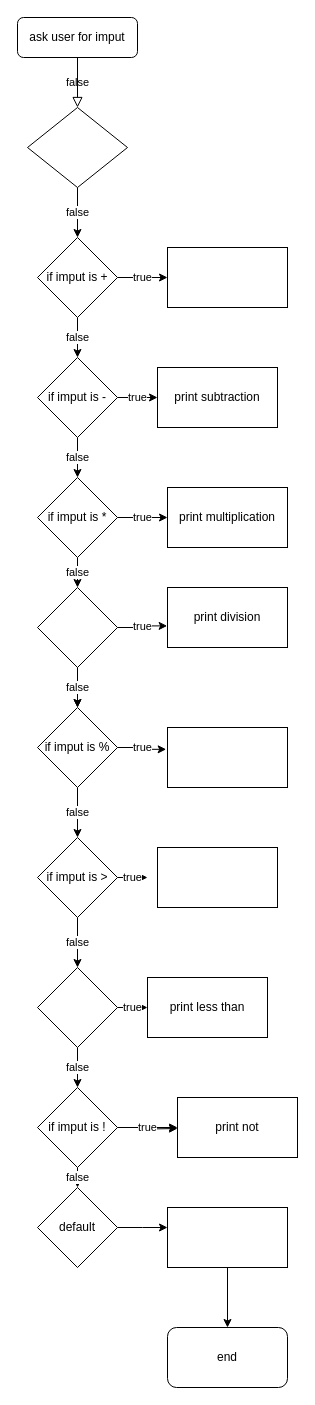
Image size: 315x1405. Some labels were removed from this diagram. The centre of each missing label's shape, as x and y in pixels:
"if imput is /" belongs at point (77, 627).
"if imput is<" belongs at point (77, 1007).
"print addition" belongs at point (227, 277).
"print greater than" belongs at point (217, 877).
"print modulo" belongs at point (227, 757).
"print unknown" belongs at point (227, 1237).
"read imput" belongs at point (77, 147).
